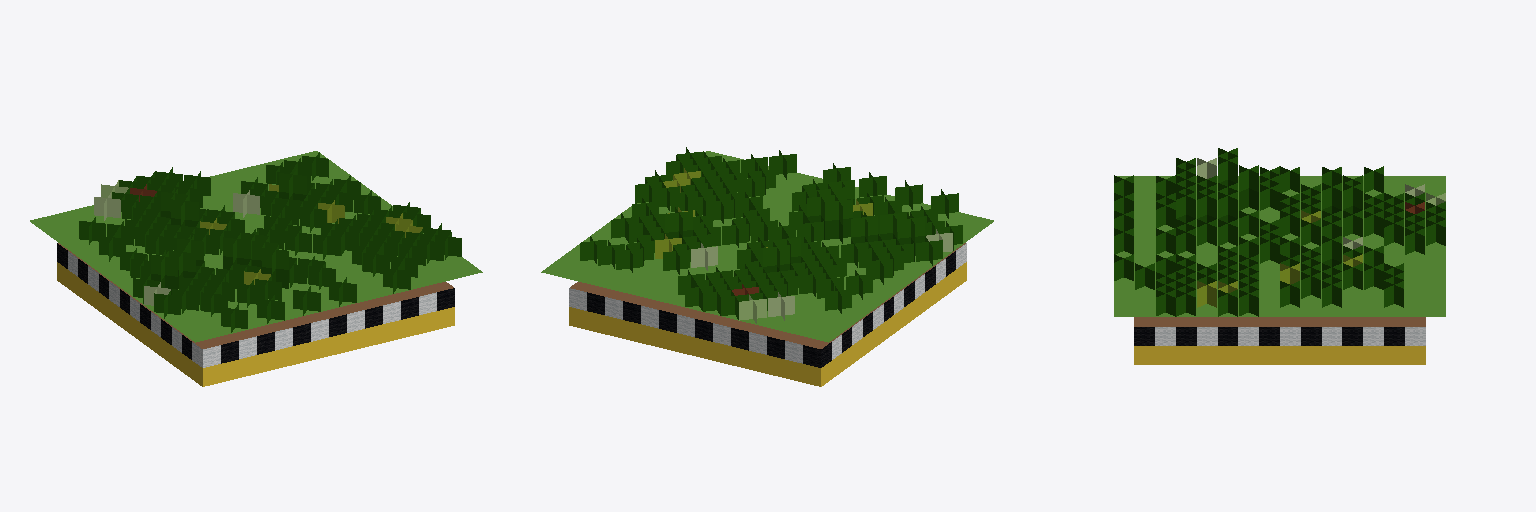
The picture shows the model from 3 angles: view 1: azimuth 30°, elevation 25°; view 2: azimuth 150°, elevation 25°; view 3: azimuth 270°, elevation 25°; orthographic projection.
Bounding box in the file's own units: 16 × 5 × 16.
12 materials, 2 textured.